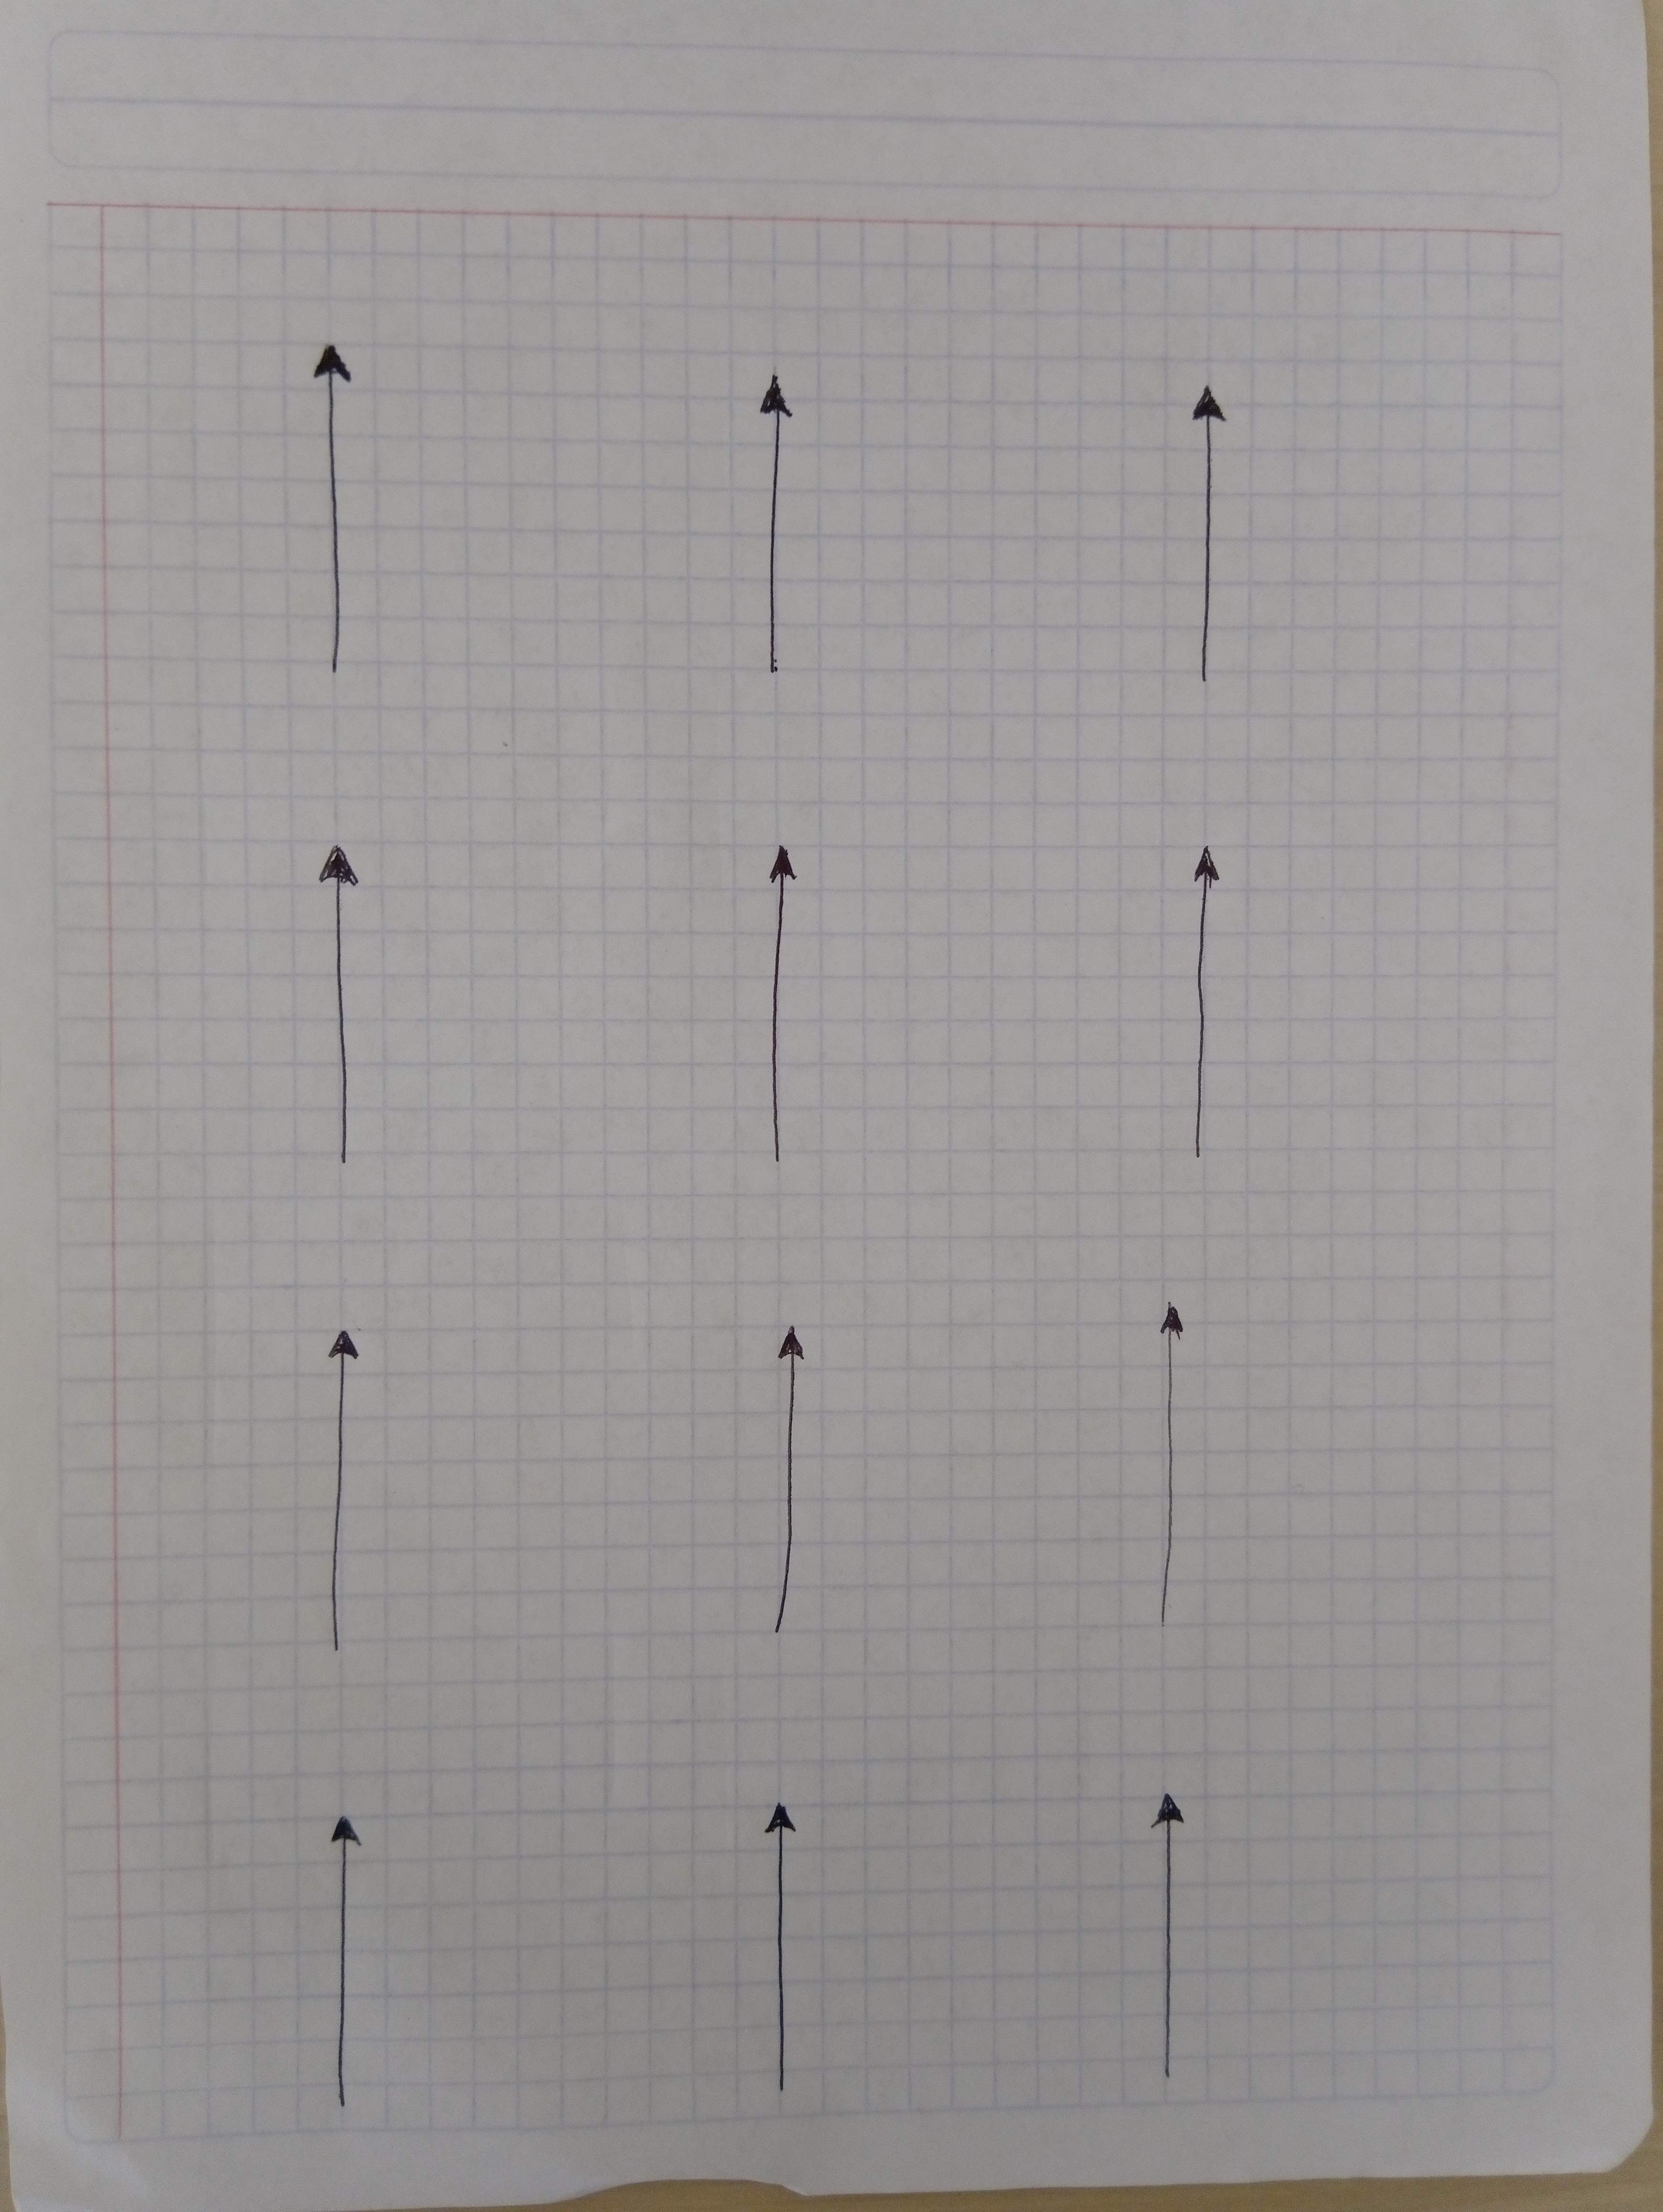arrow_line_up: (306, 848, 404, 1212), (295, 340, 377, 697), (749, 1805, 833, 2116), (299, 1329, 372, 1671), (1132, 1795, 1218, 2081), (1172, 381, 1249, 698), (763, 1325, 823, 1659), (749, 842, 807, 1182), (1156, 1309, 1211, 1646), (748, 353, 798, 679), (321, 1812, 369, 2116), (1183, 833, 1221, 1173)
